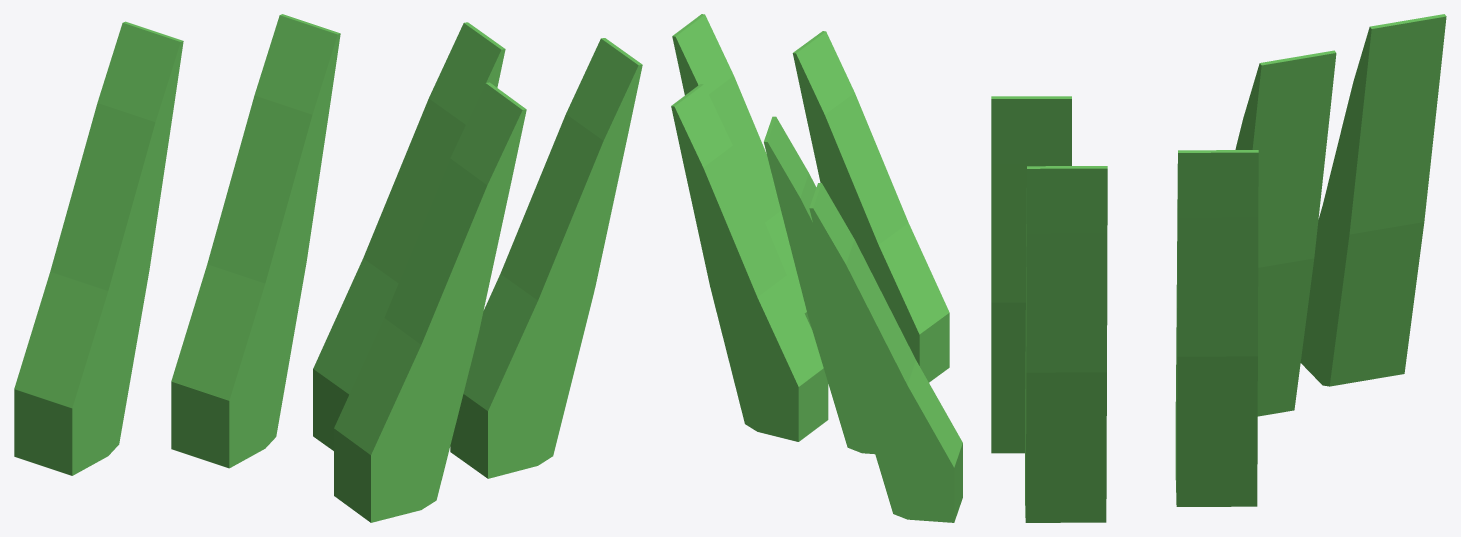
File: grass.fbx
The picture shows the model from 3 angles, left to right: view 1: azimuth 30°, elevation 25°; view 2: azimuth 150°, elevation 25°; view 3: azimuth 270°, elevation 25°; orthographic projection. The views are drawn at different scales.
Parts seen in each view (by area): view 1: pCube5, pCube6, pCube2, pCube1, pCube3; view 2: pCube3, pCube6, pCube2, pCube5, pCube1; view 3: pCube6, pCube3, pCube1, pCube5, pCube2.
Part boxes in pixels (<box>): pCube5: <box>171,14,340,468</box>; pCube6: <box>14,21,183,475</box>; pCube2: <box>334,82,526,522</box>; pCube1: <box>450,38,642,478</box>; pCube3: <box>313,22,505,450</box>; pCube3: <box>671,84,828,441</box>; pCube6: <box>809,183,962,522</box>; pCube2: <box>792,31,949,382</box>; pCube5: <box>764,116,874,454</box>; pCube1: <box>672,14,811,328</box>; pCube6: <box>1300,14,1446,386</box>; pCube3: <box>1175,150,1258,506</box>; pCube1: <box>1025,166,1107,522</box>; pCube5: <box>1235,50,1336,416</box>; pCube2: <box>991,96,1071,453</box>.
Bounding box in the file's own units: 0.0907 × 0.0728 × 0.0699.
Materials: 1 (1 with a texture image).
